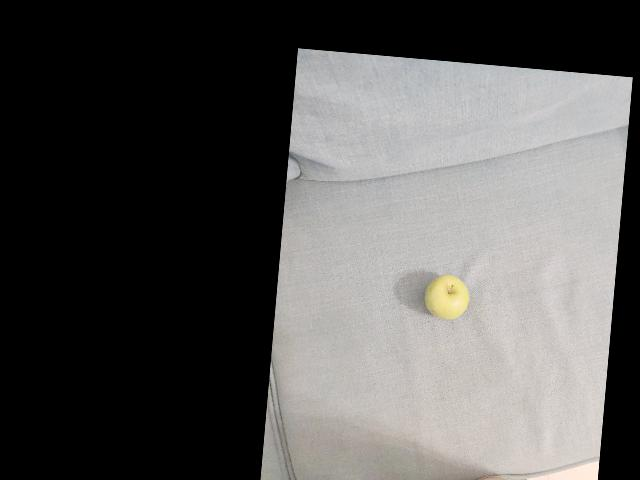apple: (421, 269, 479, 336)
